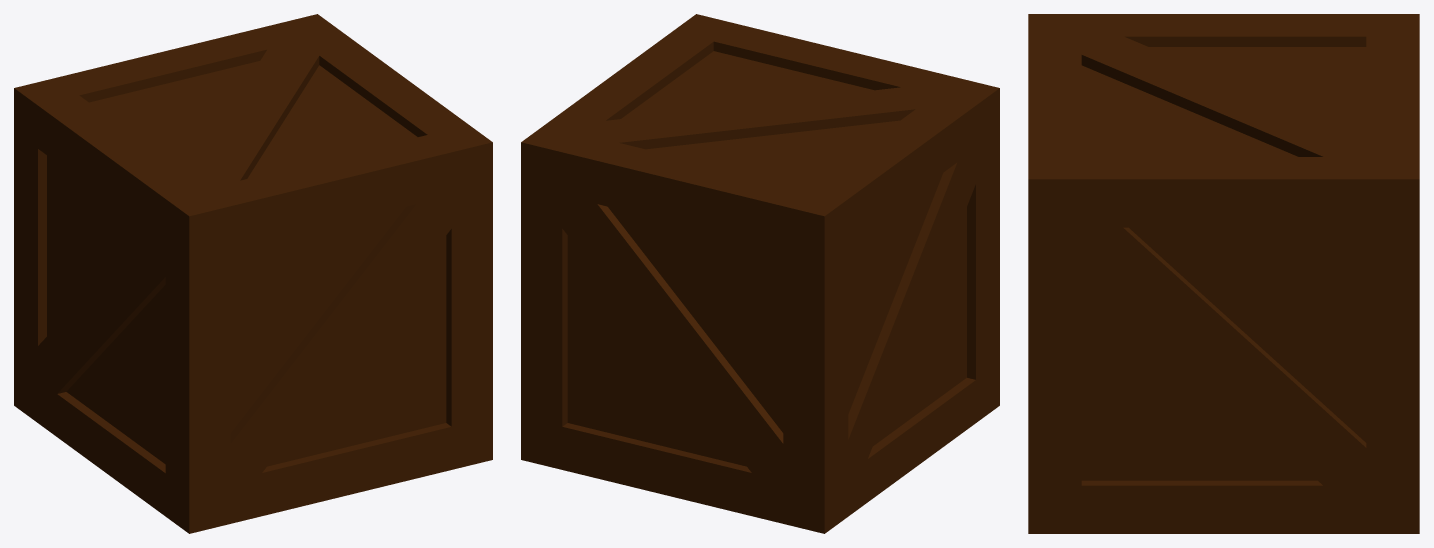
The model's file is Crate.FBX.
3 renders of one model, left to right at view 1: azimuth 30°, elevation 25°; view 2: azimuth 150°, elevation 25°; view 3: azimuth 270°, elevation 25°, orthographic. The views are drawn at different scales.
Visible parts, largest first — view 1: Box001; view 2: Box001; view 3: Box001.
Part boxes in pixels (x1,y1,x2,y2): Box001: (14, 14, 492, 533); Box001: (521, 14, 999, 533); Box001: (1028, 14, 1419, 533).
Size of the model in its own units: 20 by 20 by 20.
